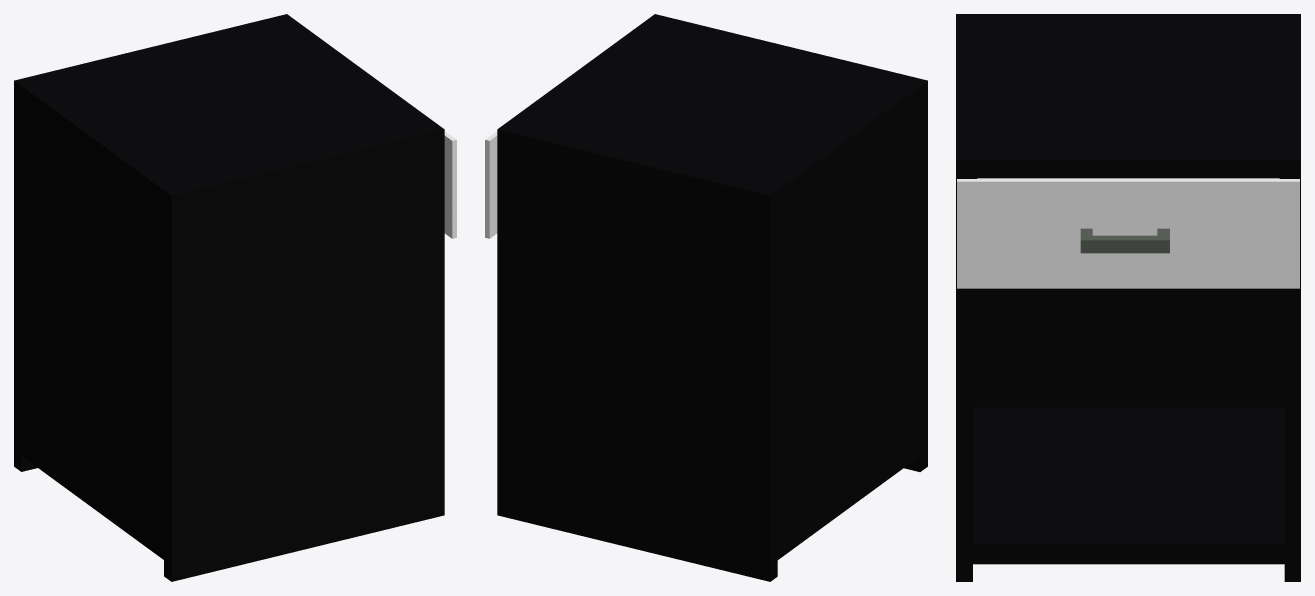
The model's file is mesita-luz2.0.fbx.
The picture shows the model from 3 angles, left to right: view 1: azimuth 30°, elevation 25°; view 2: azimuth 150°, elevation 25°; view 3: azimuth 270°, elevation 25°; orthographic projection. The views are drawn at different scales.
Visible parts, largest first — view 1: Mesita-luz; view 2: Mesita-luz; view 3: Mesita-luz.
Part boxes in pixels (x1,y1,x2,y2): Mesita-luz: [14, 14, 456, 581]; Mesita-luz: [485, 14, 927, 581]; Mesita-luz: [956, 14, 1300, 581].
Size of the model in its own units: 225 by 270 by 200.
1 material, 1 textured.
